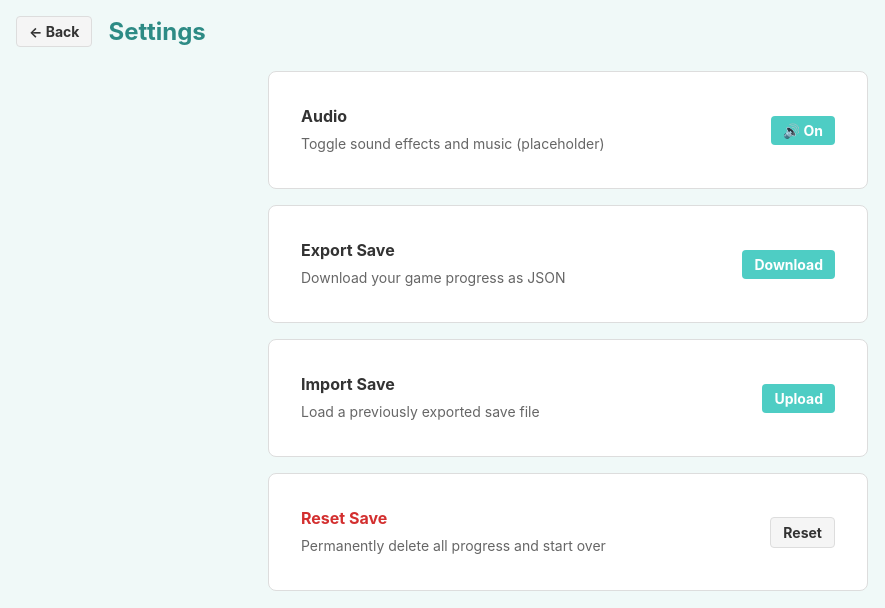
Test case: Settings › toggles audio to muted state
Click the button "🔊 On" at x=803, y=130, box [771, 116, 835, 144]
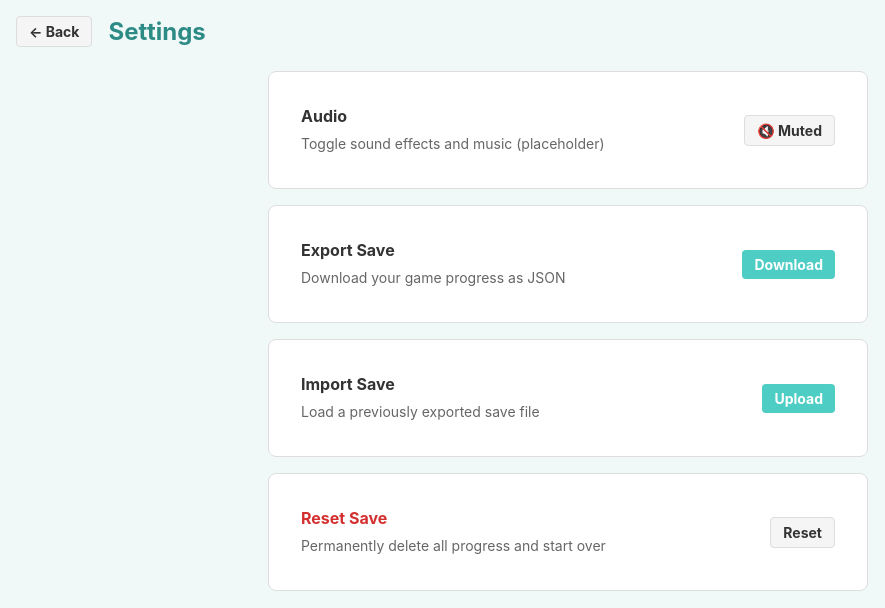
Now the text "🔇 Muted" is shown, box [744, 114, 835, 146]
